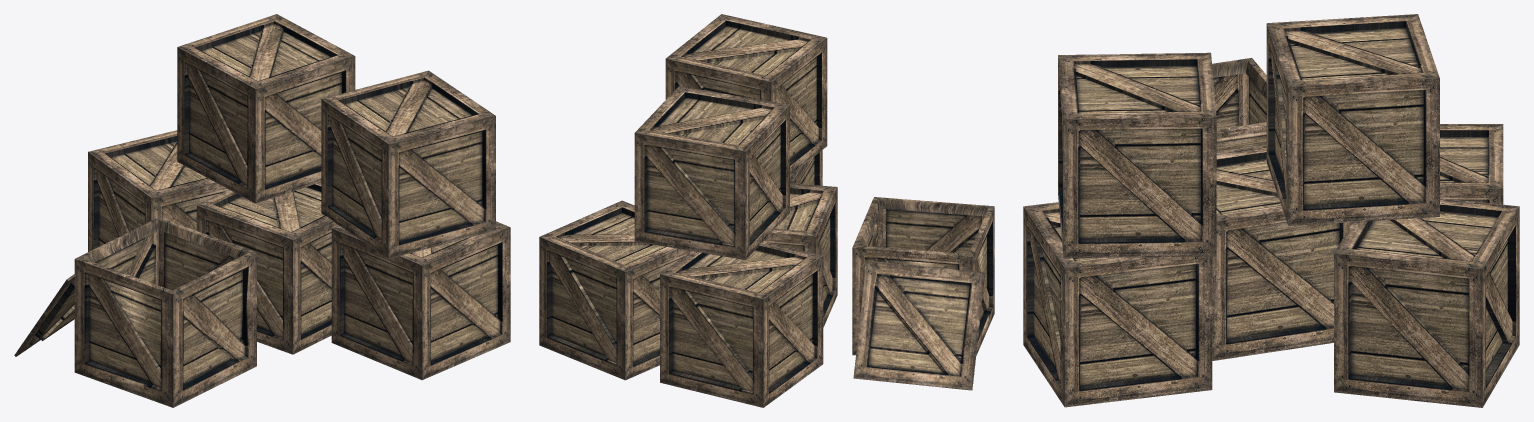
Rendered from Crates1.gltf.
3 views of the same model, side by side, from view 1: azimuth 30°, elevation 25°; view 2: azimuth 150°, elevation 25°; view 3: azimuth 270°, elevation 25° (orthographic). The views are drawn at different scales.
Visible parts, largest first — view 1: Object_2; view 2: Object_2; view 3: Object_2.
Boxes of the visible parts, bbox=[...] form: Object_2: bbox=[14, 14, 510, 407]; Object_2: bbox=[539, 14, 994, 407]; Object_2: bbox=[1023, 14, 1519, 407].
Size of the model in its own units: 5.32 by 3.03 by 4.8.
1 material, 1 textured.
